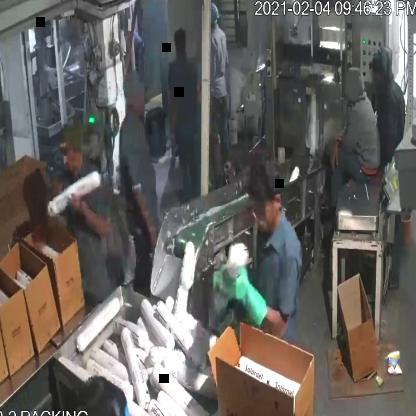glove: (214, 249, 267, 328)
no_glove: (67, 179, 115, 249), (130, 172, 169, 256)
